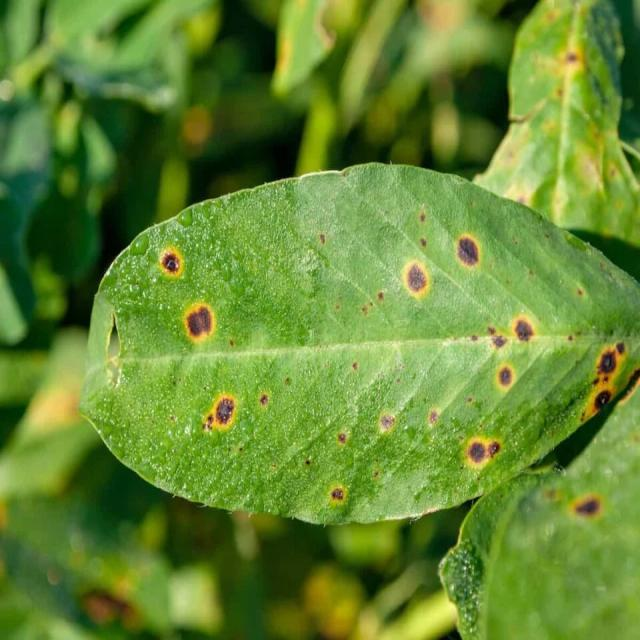leaf_spot: (81, 164, 639, 522)
